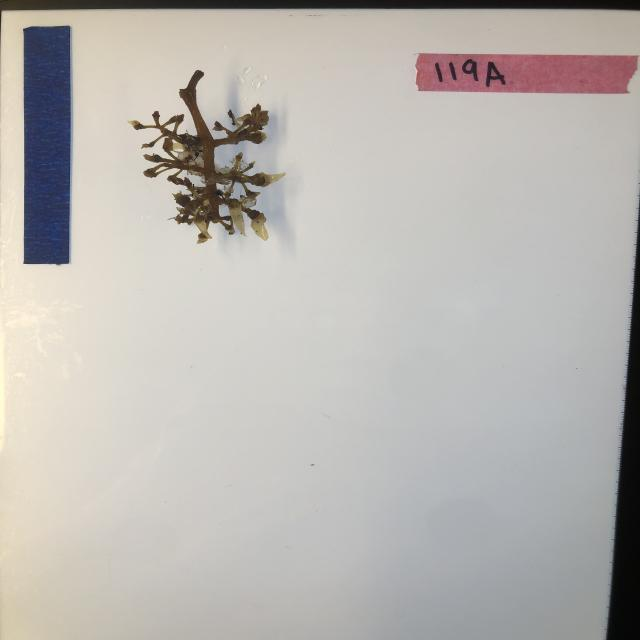index: (413, 48, 639, 95)
measure_label: (22, 24, 74, 268)
rachis_cluster: (124, 67, 285, 250)
